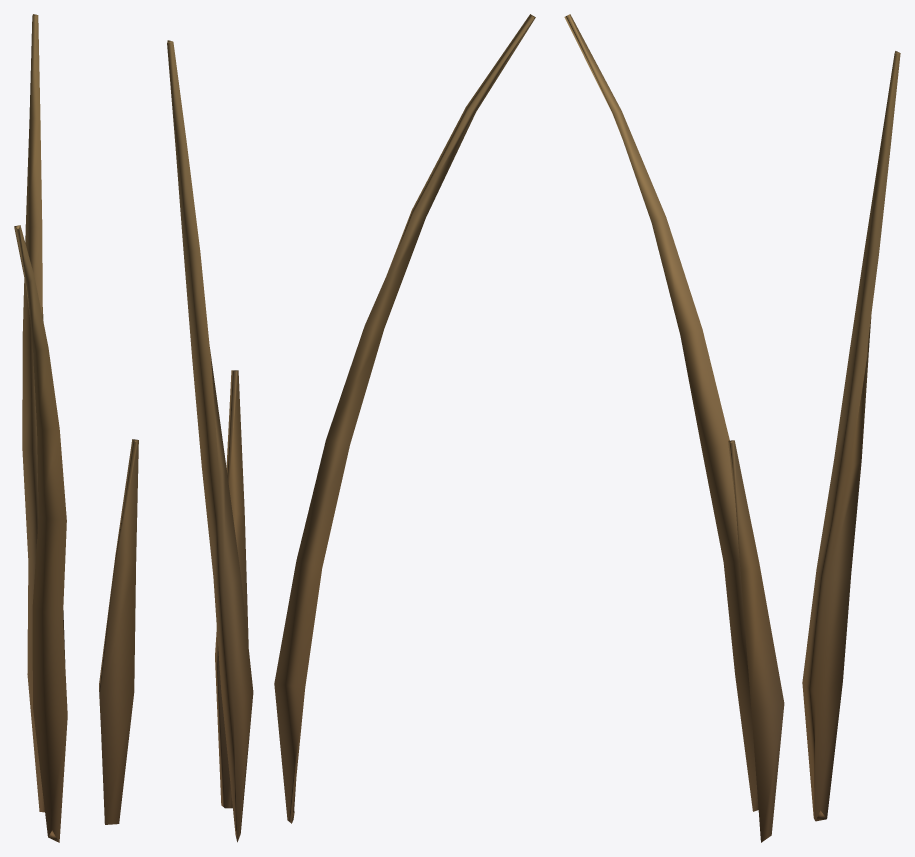
Rendered from trees-grasses-dry-grass-blades_v8.glb.
The picture shows the model from 3 angles, left to right: view 1: azimuth 30°, elevation 25°; view 2: azimuth 150°, elevation 25°; view 3: azimuth 270°, elevation 25°; orthographic projection. The views are drawn at different scales.
Parts seen in each view (by area): view 1: Dry Grass Blades_v8; view 2: Dry Grass Blades_v8; view 3: Dry Grass Blades_v8.
Part boxes in pixels (x1,y1,x2,y2): Dry Grass Blades_v8: [14, 14, 138, 842]; Dry Grass Blades_v8: [167, 14, 535, 842]; Dry Grass Blades_v8: [564, 14, 900, 842].
Size of the model in its own units: 0.1714 by 0.6 by 0.2337.
